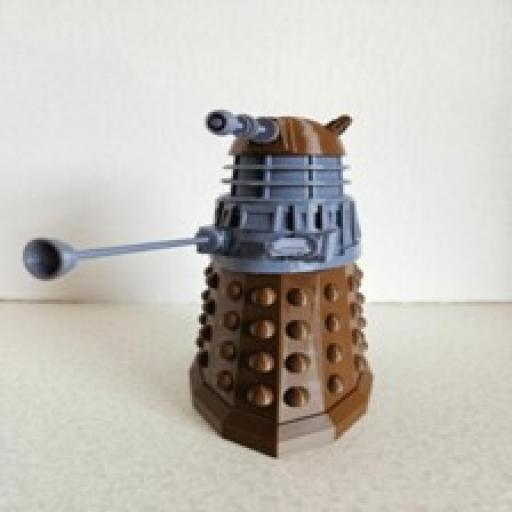dalek: (20, 106, 373, 458)
